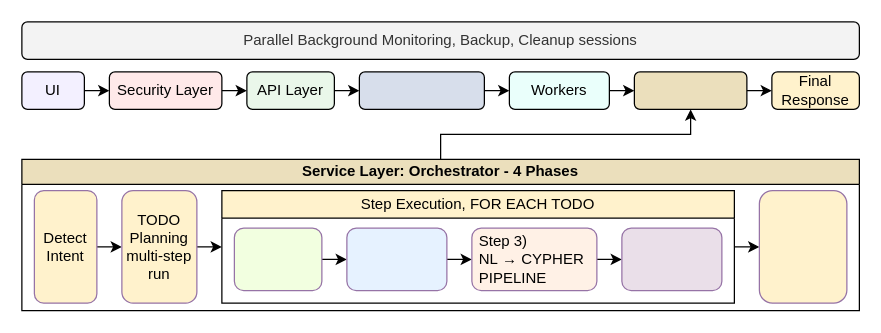
Image size: 881x333. Some labels were removed from this diagram. The shapes that lost their labels are listed below. From the top down, each one's centre as x and y in pixels, then its label:
At pixel 421 90: "Job Creation".
At pixel 690 90: "Service Layer".
At pixel 277 259: "Step 1) Call LLM Providers".
At pixel 396 259: "Step 2) Invoke MCP Tools".
At pixel 671 259: "Step 4) Record on Data LAYER".
At pixel 802 246: "Final Response Generation".
